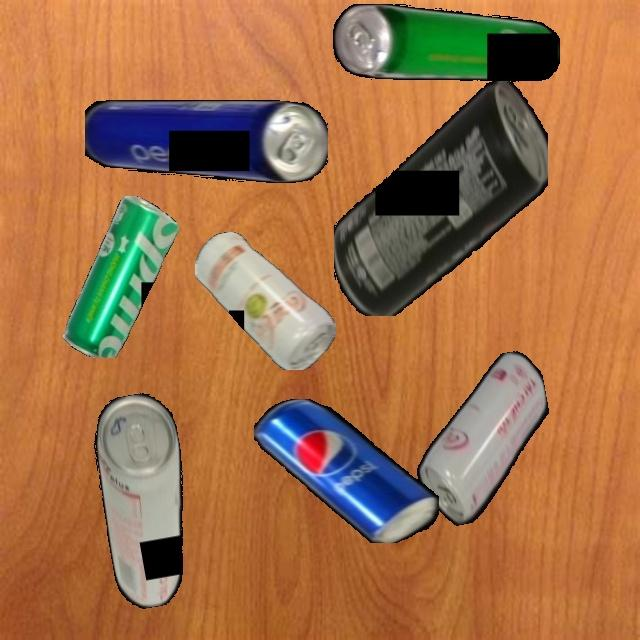debris: (333, 80, 548, 316), (400, 348, 565, 530), (85, 389, 206, 612), (254, 398, 439, 543), (84, 100, 328, 183), (195, 231, 336, 370), (63, 195, 179, 358), (333, 3, 560, 83)
